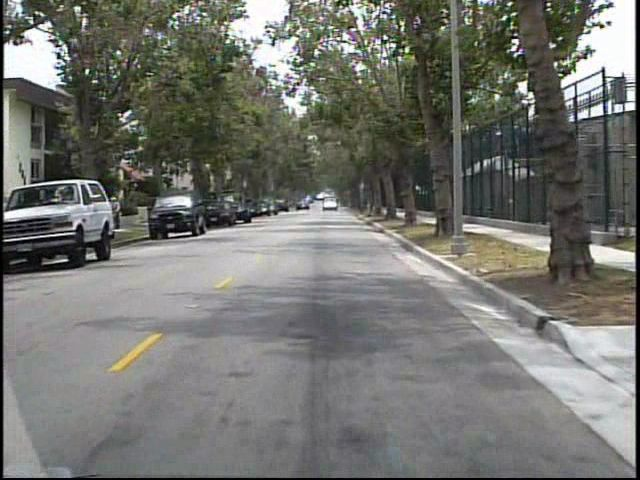person: (100, 188, 122, 235)
